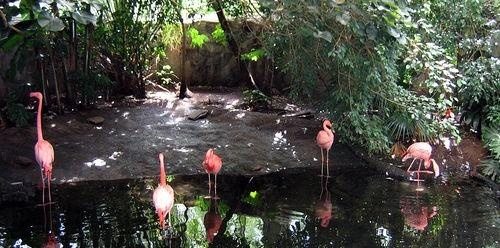bird: (26, 91, 61, 208), (152, 151, 177, 237), (404, 141, 443, 194), (313, 119, 338, 184), (202, 149, 224, 203)
